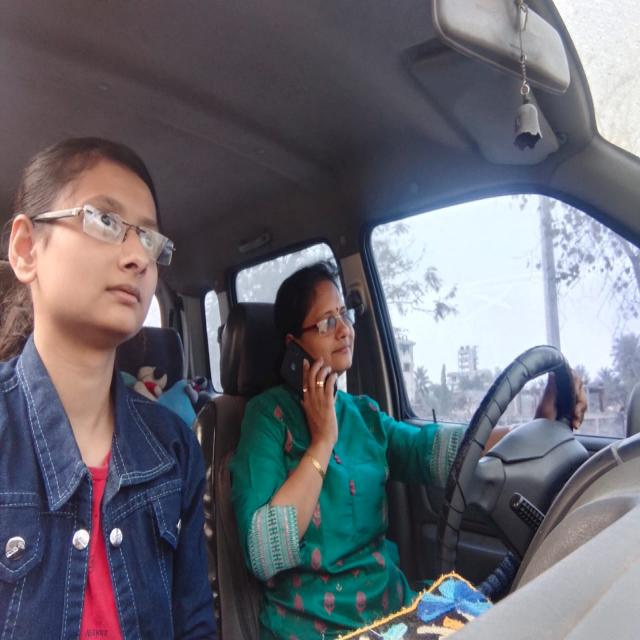mobile: (279, 342, 326, 410)
person: (0, 130, 174, 388), (272, 260, 366, 408)
